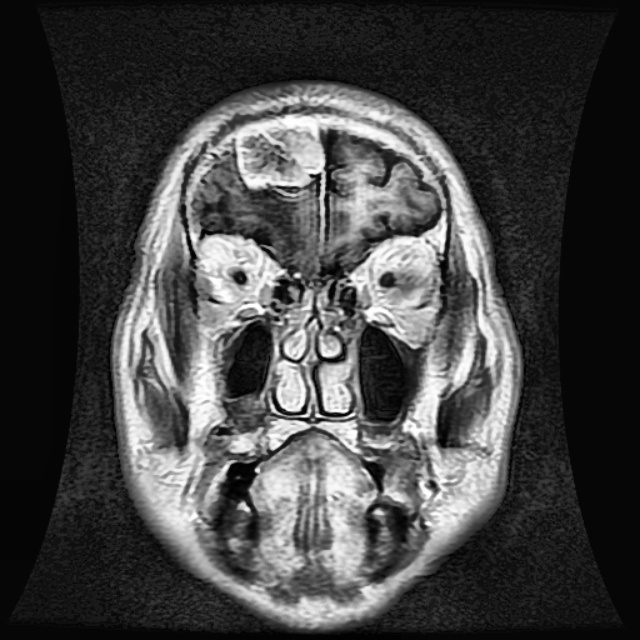Glioma: (235, 125, 327, 188)
